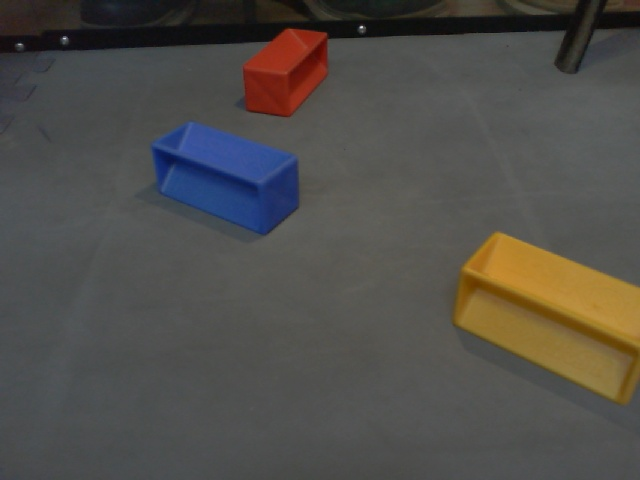BlueSample: (147, 119, 301, 237)
RedSample: (241, 27, 331, 117)
YellowSample: (450, 226, 640, 407)
